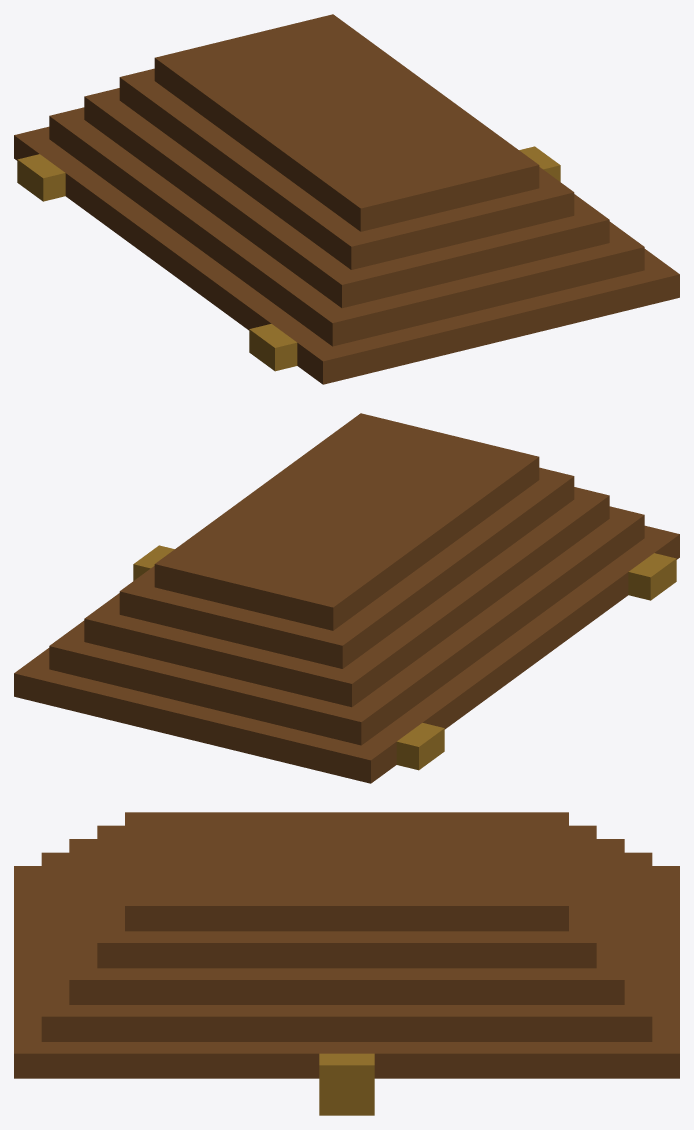
Rendered from Chest C.obj.
The picture shows the model from 3 angles, top to bottom: view 1: azimuth 30°, elevation 25°; view 2: azimuth 150°, elevation 25°; view 3: azimuth 270°, elevation 25°; orthographic projection. The views are drawn at different scales.
Parts seen in each view (by area): view 1: Chest C; view 2: Chest C; view 3: Chest C.
Part boxes in pixels (x1,y1,x2,y2): Chest C: (14, 14, 679, 384); Chest C: (14, 413, 679, 783); Chest C: (14, 812, 679, 1115).
Size of the model in its own units: 18 by 6 by 24.
